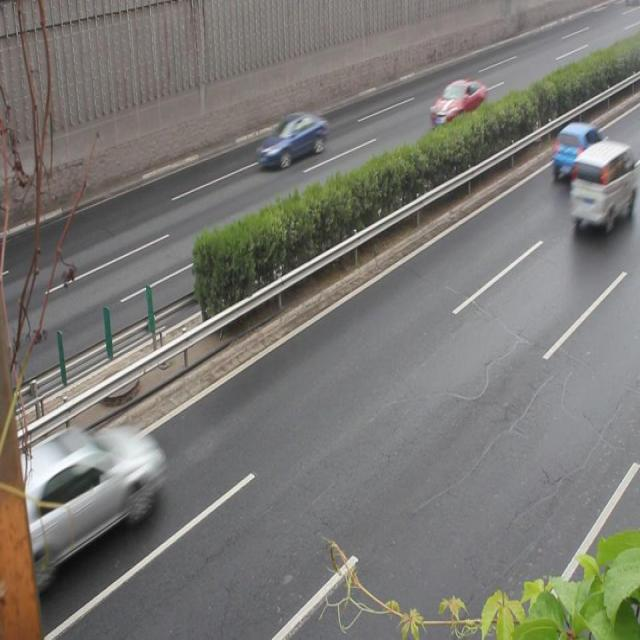car: (0, 421, 159, 566), (257, 110, 327, 165), (549, 120, 602, 179), (427, 76, 484, 128)
